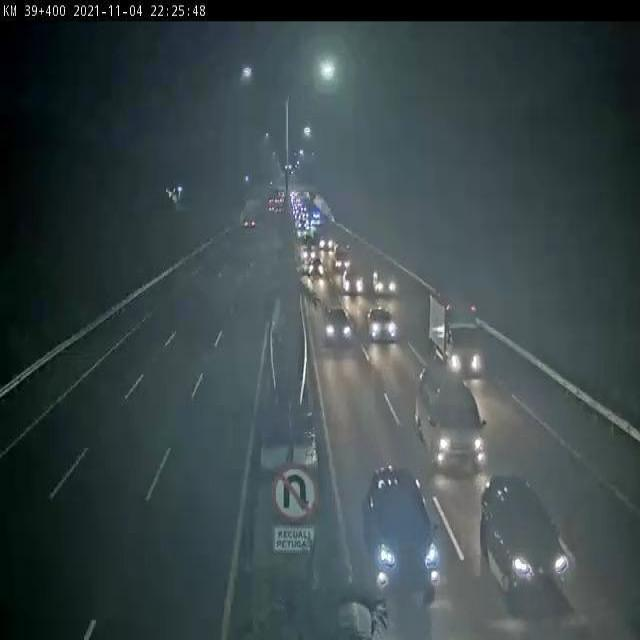car: (478, 476, 581, 621), (353, 464, 443, 605), (409, 363, 485, 475), (365, 304, 398, 351), (322, 304, 352, 348), (372, 268, 403, 305), (345, 268, 371, 305), (331, 245, 354, 275), (308, 253, 323, 283)
truck: (425, 291, 490, 405)
